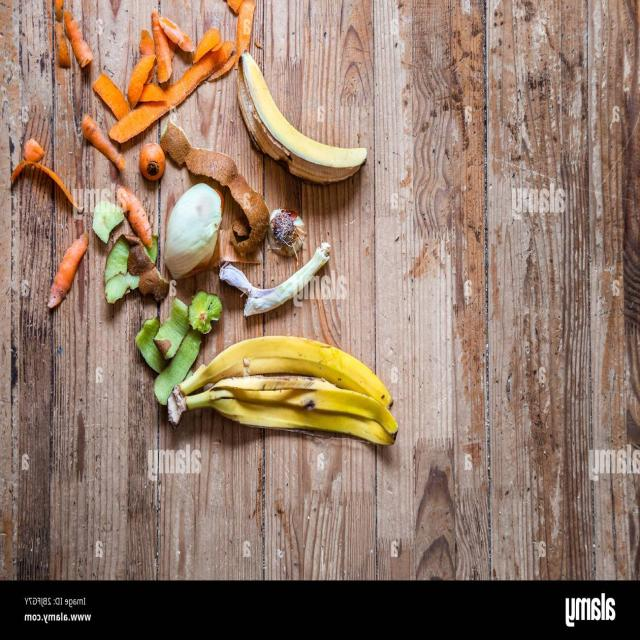organic: (167, 336, 399, 448), (235, 48, 368, 185), (105, 39, 233, 145), (218, 243, 344, 319), (163, 186, 224, 282), (104, 232, 171, 312), (8, 152, 86, 212), (153, 330, 202, 408), (47, 228, 88, 312), (80, 105, 127, 172), (126, 26, 156, 113), (116, 186, 156, 251), (153, 296, 187, 360), (268, 206, 308, 259), (90, 69, 129, 121), (64, 5, 94, 71), (229, 0, 257, 68), (187, 291, 223, 334), (154, 6, 173, 86), (49, 0, 70, 71), (158, 13, 195, 53), (94, 200, 125, 245), (191, 19, 219, 64), (138, 141, 166, 183), (21, 140, 44, 164)
